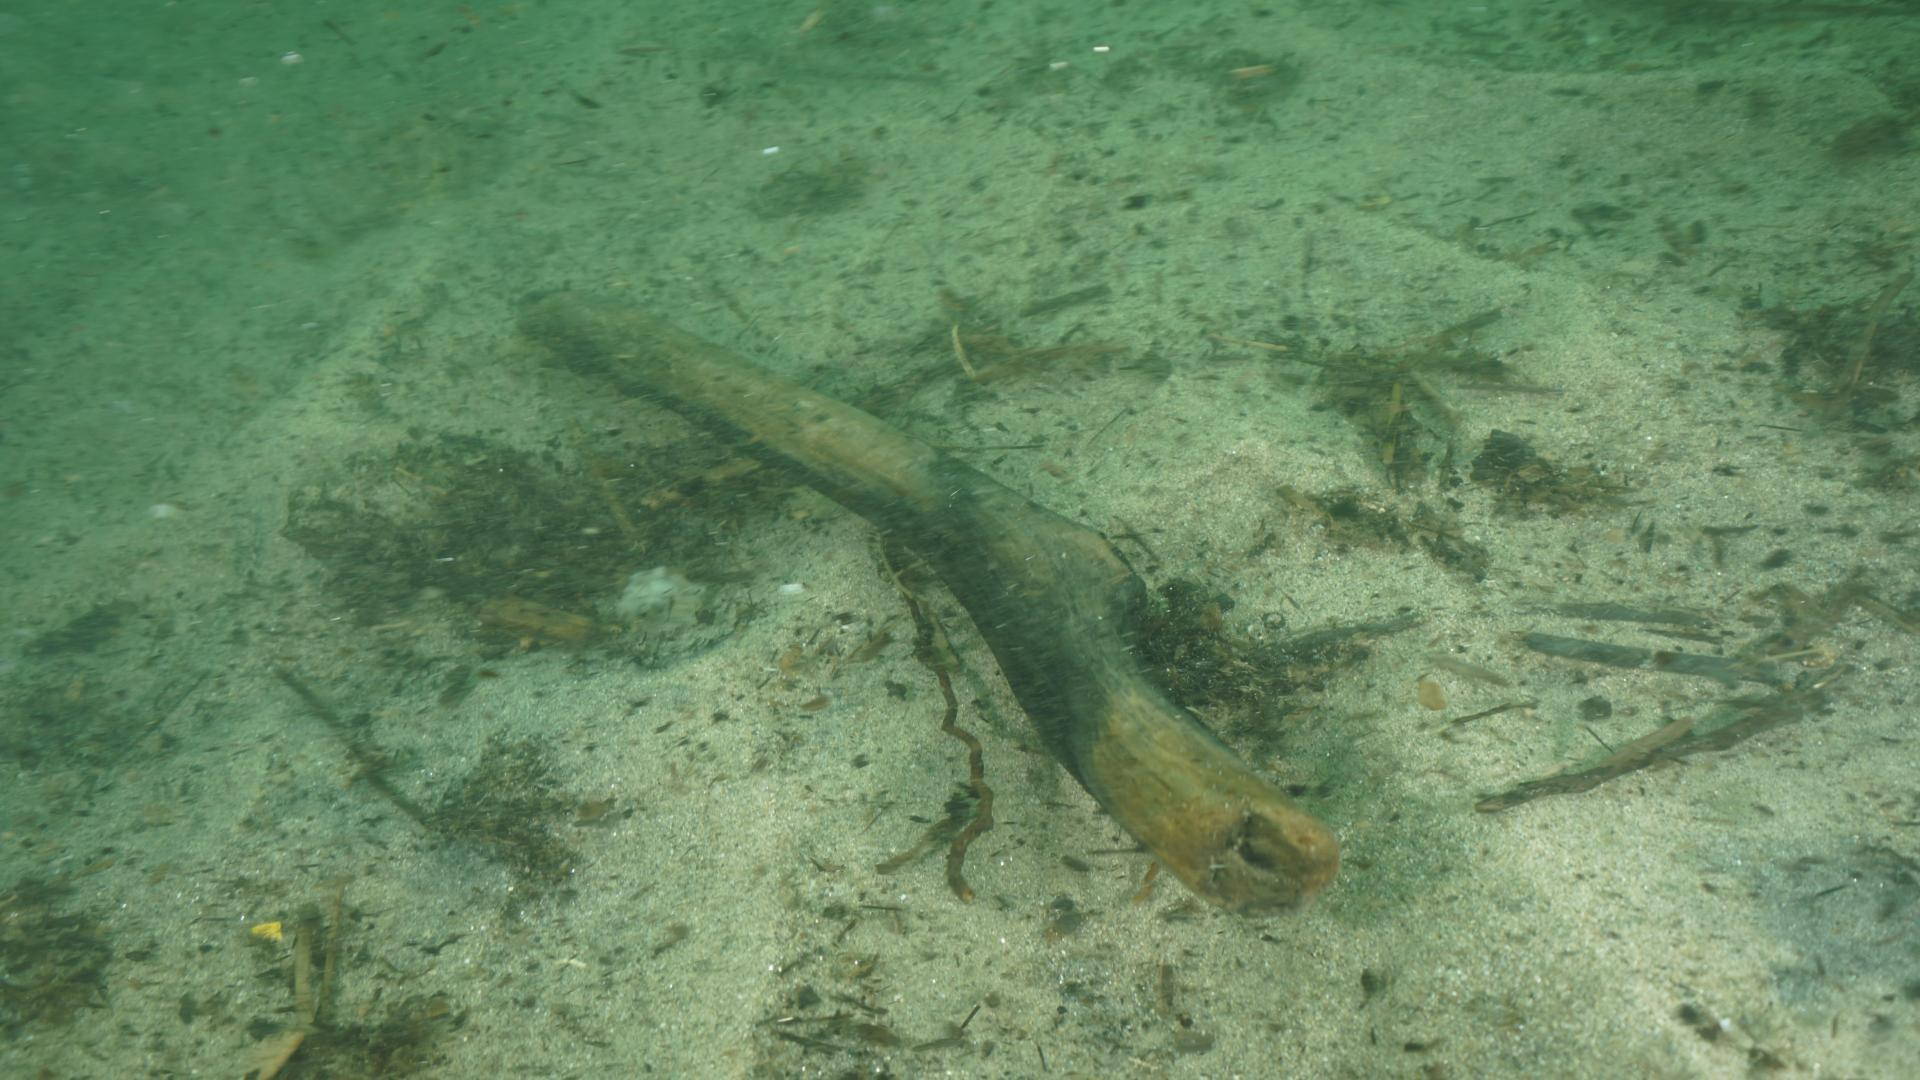wood: (516, 290, 1341, 911)
